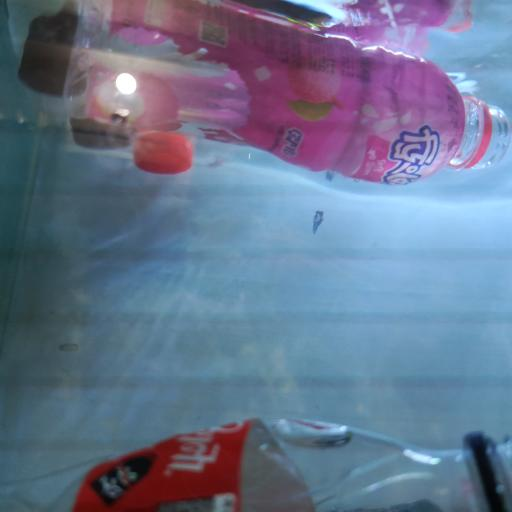bottle_cap: (19, 40, 90, 96), (134, 131, 194, 174)
plastic_bottle: (63, 0, 510, 190), (2, 415, 512, 512)
